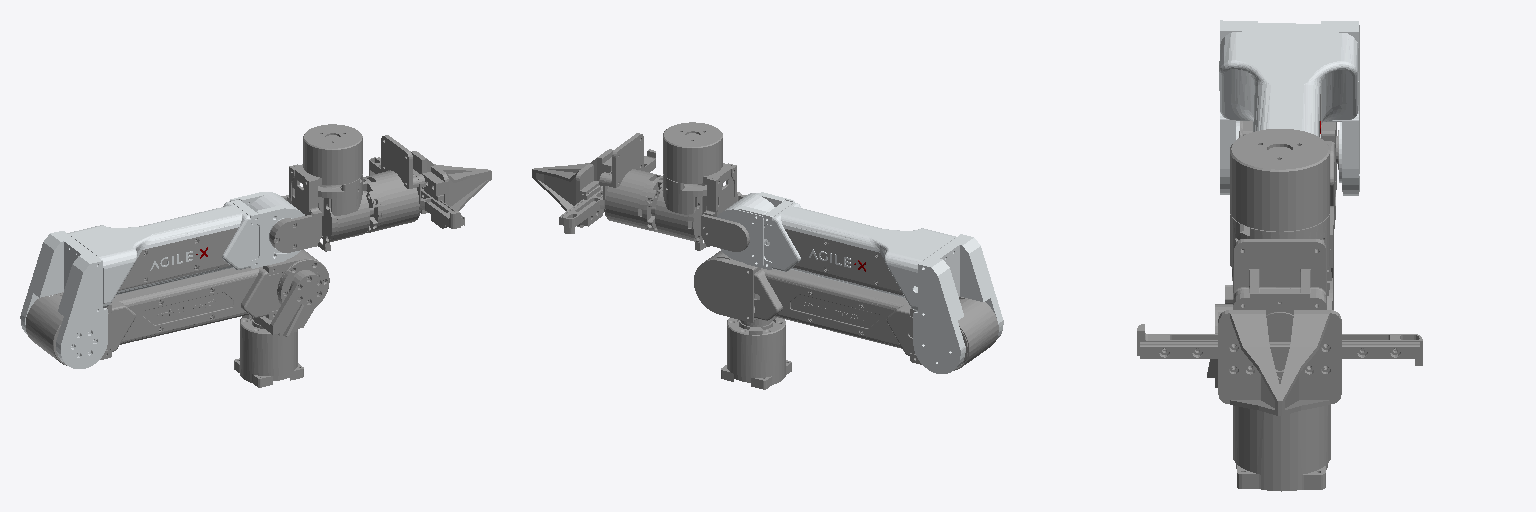
The robot description file, URDF, robot "aloha_agilex_right_follower":
<?xml version='1.0' encoding='utf-8'?>
<robot name="aloha_agilex_right_follower">
  <link name="fr_base_link">
    <inertial>
      <origin xyz="-3.77960552443097E-05 6.79413834922362E-05 0.0272675975957773" rpy="0 0 0" />
      <mass value="0.155112526591278" />
      <inertia ixx="7.60347373757683E-05" ixy="1.31363578468253E-07" ixz="1.65990805634842E-07" iyy="7.64176389864096E-05" iyz="-2.98381448658278E-07" izz="6.94914158355665E-05" />
    </inertial>
    <visual>
      <origin xyz="0 0 0" rpy="0 0 0" />
      <geometry>
        <mesh filename="meshes/base_arm.dae" />
      </geometry>
    </visual>
  </link>
  <link name="fr_link1">
    <inertial>
      <origin xyz="0.00625345254733769 -0.024776724575416 0.0152204909116542" rpy="0 0 0" />
      <mass value="0.0216291264377367" />
      <inertia ixx="1.15756471313396E-05" ixy="1.63728784702967E-06" ixz="-2.73767909517805E-06" iyy="9.54605859943272E-06" iyz="3.01605409074901E-06" izz="1.06781021447089E-05" />
    </inertial>
    <visual>
      <origin xyz="0 0 0" rpy="0 0 0" />
      <geometry>
        <mesh filename="meshes/link1.dae" />
      </geometry>
    </visual>
  </link>
  <joint name="fr_joint1" type="revolute">
    <origin xyz="0 0 0.058" rpy="0 0 0" />
    <parent link="fr_base_link" />
    <child link="fr_link1" />
    <axis xyz="0 0 1" />
    <limit lower="-10" upper="10" effort="100" velocity="1000" />
  </joint>
  <link name="fr_link2">
    <inertial>
      <origin xyz="-0.0751817740450955 3.45134309138919E-06 -4.55690287344823E-05" rpy="0 0 0" />
      <mass value="0.317040634327494" />
      <inertia ixx="0.000148622978788109" ixy="7.9939701538228E-06" ixz="2.11594522192149E-06" iyy="0.000646291918352959" iyz="-1.99305353242084E-08" izz="0.000613128041834933" />
    </inertial>
    <visual>
      <origin xyz="0 0 0" rpy="0 0 0" />
      <geometry>
        <mesh filename="meshes/link2.dae" />
      </geometry>
    </visual>
  </link>
  <joint name="fr_joint2" type="revolute">
    <origin xyz="0.025013 0.00060169 0.042" rpy="0 0 0" />
    <parent link="fr_link1" />
    <child link="fr_link2" />
    <axis xyz="0 1 0" />
    <limit lower="-10" upper="10" effort="100" velocity="1000" />
  </joint>
  <link name="fr_link3">
    <inertial>
      <origin xyz="0.0958977122336034 -8.54798924280289E-05 -0.0389029227802006" rpy="0 0 0" />
      <mass value="0.475179901151789" />
      <inertia ixx="0.000245797731408424" ixy="-1.18756934981885E-06" ixz="-3.08627546217305E-07" iyy="0.000848596965773723" iyz="2.1655980060709E-07" izz="0.00073290848648715" />
    </inertial>
    <visual>
      <origin xyz="0 0 0" rpy="0 0 0" />
      <geometry>
        <mesh filename="meshes/link3.dae" />
      </geometry>
    </visual>
  </link>
  <joint name="fr_joint3" type="revolute">
    <origin xyz="-0.26396 0.0044548 0" rpy="-3.1416 0 -0.015928" />
    <parent link="fr_link2" />
    <child link="fr_link3" />
    <axis xyz="0 1 0" />
    <limit lower="-10" upper="10" effort="100" velocity="1000" />
  </joint>
  <link name="fr_link4">
    <inertial>
      <origin xyz="0.0591385266744759 0.00278044811499105 -0.0552291926495377" rpy="0 0 0" />
      <mass value="0.138133633872797" />
      <inertia ixx="5.6812931750694E-05" ixy="3.18564570369191E-06" ixz="3.31187610383292E-06" iyy="5.56751697137782E-05" iyz="-2.13897740775086E-06" izz="6.42957251144152E-05" />
    </inertial>
    <visual>
      <origin xyz="0 0 0" rpy="0 0 0" />
      <geometry>
        <mesh filename="meshes/link4.dae" />
      </geometry>
    </visual>
  </link>
  <joint name="fr_joint4" type="revolute">
    <origin xyz="0.246 -0.00025 -0.06" rpy="0 0 0" />
    <parent link="fr_link3" />
    <child link="fr_link4" />
    <axis xyz="0 1 0" />
    <limit lower="-10" upper="10" effort="100" velocity="1000" />
  </joint>
  <link name="fr_link5">
    <inertial>
      <origin xyz="0.00870303426445659 -2.87406901246252E-05 0.0817957433312705" rpy="0 0 0" />
      <mass value="0.126741777607625" />
      <inertia ixx="5.2870226427243E-05" ixy="-3.41758559092594E-08" ixz="1.05281937338646E-06" iyy="4.14245046680039E-05" iyz="-7.47381113966083E-08" izz="4.46265559731496E-05" />
    </inertial>
    <visual>
      <origin xyz="0 0 0" rpy="0 0 0" />
      <geometry>
        <mesh filename="meshes/link5.dae" />
      </geometry>
    </visual>
  </link>
  <joint name="fr_joint5" type="revolute">
    <origin xyz="0.06775 0.0015 -0.0855" rpy="0 0 -0.015928" />
    <parent link="fr_link4" />
    <child link="fr_link5" />
    <axis xyz="0 0 1" />
    <limit lower="-10" upper="10" effort="100" velocity="1000" />
  </joint>
  <link name="fr_link6">
    <inertial>
      <origin xyz="0.038317562848284 -4.45000434657139E-05 0.00355875192843721" rpy="0 0 0" />
      <mass value="0.142880100739169" />
      <inertia ixx="9.84190386012445E-05" ixy="9.90777828593097E-08" ixz="2.38841662850396E-07" iyy="3.95328645641678E-05" iyz="2.8992956673539E-07" izz="8.4711562610471E-05" />
    </inertial>
    <visual>
      <origin xyz="0 0 0" rpy="0 0 0" />
      <geometry>
        <mesh filename="meshes/link6.dae" />
      </geometry>
    </visual>
  </link>
  <joint name="fr_joint6" type="revolute">
    <origin xyz="0.03095 0 0.0855" rpy="-3.1416 0 0" />
    <parent link="fr_link5" />
    <child link="fr_link6" />
    <axis xyz="1 0 0" />
    <limit lower="-10" upper="10" effort="100" velocity="1000" />
  </joint>
  <link name="fr_link7">
    <inertial>
      <origin xyz="0.00626222055030923 -0.00713411663149576 -0.00289898514345116" rpy="0 0 0" />
      <mass value="0.0264779585598598" />
      <inertia ixx="8.79642526953154E-06" ixy="3.0244685599285E-06" ixz="-5.99353466596085E-07" iyy="1.48519274221679E-05" iyz="1.31550651321036E-07" izz="1.1114142640444E-05" />
    </inertial>
    <visual>
      <origin xyz="0 0 0" rpy="0 0 0" />
      <geometry>
        <mesh filename="meshes/link7.dae" />
      </geometry>
    </visual>
  </link>
  <joint name="fr_joint7" type="prismatic">
    <origin xyz="0.08457 0.024493 -0.00010349" rpy="0 0 0" />
    <parent link="fr_link6" />
    <child link="fr_link7" />
    <axis xyz="0 1 0" />
    <limit lower="0" upper="0.04765" effort="100" velocity="1000" />
  </joint>
  <link name="fr_link8">
    <inertial>
      <origin xyz="0.00626222057480438 0.00713411644936678 0.00145300478837504" rpy="0 0 0" />
      <mass value="0.0264779581346586" />
      <inertia ixx="9.01311523396113E-06" ixy="-3.02446856817399E-06" ixz="1.52593574709739E-06" iyy="1.50686174477573E-05" iyz="5.73251417689975E-07" izz="1.11141426397578E-05" />
    </inertial>
    <visual>
      <origin xyz="0 0 0" rpy="0 0 0" />
      <geometry>
        <mesh filename="meshes/link8.dae" />
      </geometry>
    </visual>
  </link>
  <joint name="fr_joint8" type="prismatic">
    <origin xyz="0.08457 -0.024496 -0.00010354" rpy="0 0 0" />
    <parent link="fr_link6" />
    <child link="fr_link8" />
    <axis xyz="0 -1 0" />
    <limit lower="0" upper="0.04765" effort="100" velocity="1000" />
  </joint>
  <link name="fr_tcp" />
  <joint name="fr_tcp_fixed" type="fixed">
    <parent link="fr_link6" />
    <child link="fr_tcp" />
    <origin xyz="0.12 0 0" rpy="0 0 0" />
  </joint>
</robot>

--- Render facts (derived) ---
Views: 3 orthographic renders of the robot side by side, from view 1: azimuth 30°, elevation 25°; view 2: azimuth 150°, elevation 25°; view 3: azimuth 270°, elevation 25°.
Robot: aloha_agilex_right_follower — 10 links, 9 joints (6 revolute, 2 prismatic, 1 fixed); root link fr_base_link; default pose: all joints at 0.
Visible links, largest first — view 1: fr_link3, fr_link2, fr_link4, fr_link6, fr_base_link, fr_link5, fr_link1, fr_link8, fr_link7; view 2: fr_link3, fr_link2, fr_link4, fr_link6, fr_base_link, fr_link5, fr_link7, fr_link8; view 3: fr_link3, fr_link6, fr_link4, fr_base_link, fr_link8, fr_link7, fr_link5, fr_link2.
Boxes of the visible links, x1,y1,x2,y2 form: fr_link3: (20, 192, 304, 368); fr_link2: (26, 250, 329, 365); fr_link4: (270, 124, 362, 252); fr_link6: (363, 135, 464, 232); fr_base_link: (234, 315, 303, 387); fr_link5: (303, 174, 373, 251); fr_link1: (252, 272, 323, 336); fr_link8: (422, 165, 491, 228); fr_link7: (411, 151, 487, 213); fr_link3: (717, 192, 1003, 373); fr_link2: (694, 251, 998, 370); fr_link4: (663, 122, 749, 251); fr_link6: (559, 133, 662, 233); fr_base_link: (721, 317, 791, 389); fr_link5: (651, 174, 722, 250); fr_link7: (532, 164, 602, 227); fr_link8: (534, 149, 613, 212); fr_link3: (1219, 20, 1359, 195); fr_link6: (1137, 239, 1422, 381); fr_link4: (1230, 129, 1334, 280); fr_base_link: (1233, 404, 1330, 491); fr_link8: (1218, 310, 1279, 415); fr_link7: (1280, 310, 1341, 415); fr_link5: (1230, 214, 1329, 298); fr_link2: (1225, 121, 1338, 382).
Size in the robot's own frame: 0.5307 by 0.174 by 0.25 metres.
9 mesh visuals loaded from 9 distinct referenced files (9 Collada DAE).
